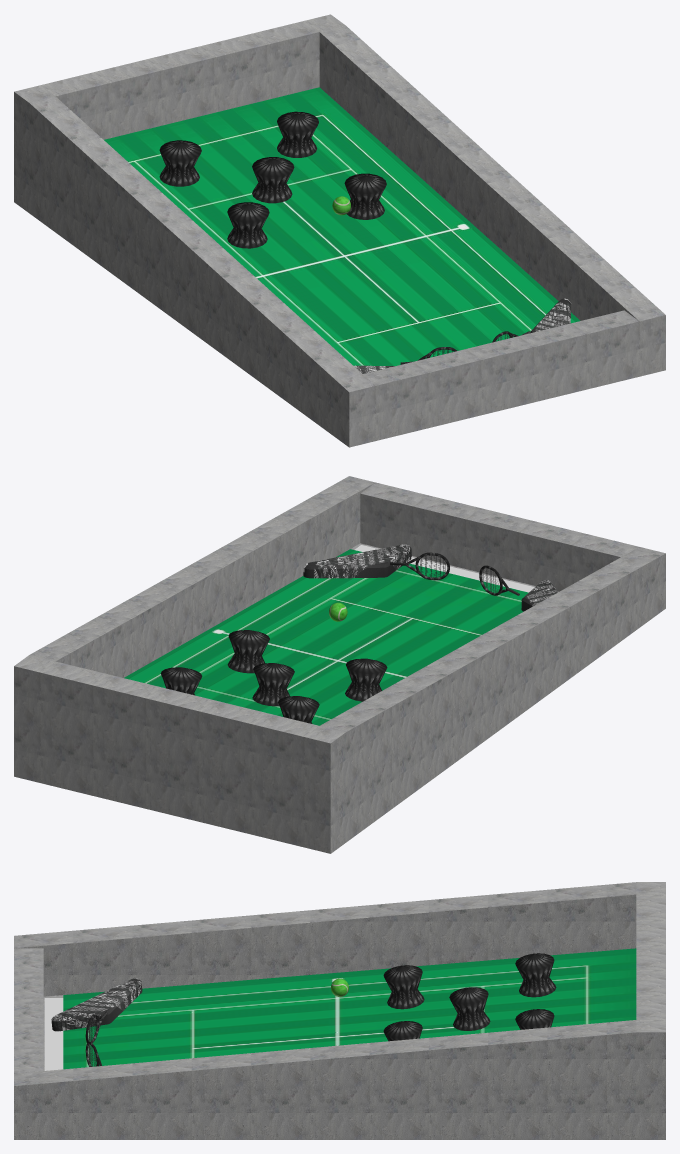
Rendered from pinball.fbx.
3 views of the same model, one above another, from view 1: azimuth 30°, elevation 25°; view 2: azimuth 150°, elevation 25°; view 3: azimuth 270°, elevation 25° (orthographic). The views are drawn at different scales.
Visible parts, largest first — view 1: tenniscourt, Bumper002, Bumper, Bumper003, Bumper004, Bumper001, Kicker; view 2: tenniscourt, Kicker, Bumper, Bumper001, Bumper002, deadzone, Bumper004, Bumper003, Tennisracket, kicker 2; view 3: tenniscourt, kicker 2, Bumper, Bumper003, Bumper002, deadzone, Bumper004, Bumper001.
Boxes of the visible parts, x1,y1,x2,y2 form: tenniscourt: (14,14,665,447); Bumper002: (227,202,269,248); Bumper: (252,157,294,203); Bumper003: (159,140,201,186); Bumper004: (277,111,318,157); Bumper001: (344,173,386,219); Kicker: (530,298,571,332); tenniscourt: (14,476,665,853); Kicker: (303,544,411,578); Bumper: (252,663,294,706); Bumper001: (227,630,269,673); Bumper002: (345,658,387,701); deadzone: (354,545,534,592); Bumper004: (160,667,202,695); Bumper003: (278,696,319,723); Tennisracket: (390,552,449,580); kicker 2: (521,580,557,611); tenniscourt: (14,882,665,1139); kicker 2: (51,978,142,1031); Bumper: (449,987,490,1030); Bumper003: (515,953,556,997); Bumper002: (383,965,424,1009); deadzone: (44,998,63,1070); Bumper004: (515,1009,554,1029); Bumper001: (383,1021,422,1041).
Size of the model in its own units: 5.4 by 1.8 by 9.9.
Materials: 6 (6 with a texture image).
